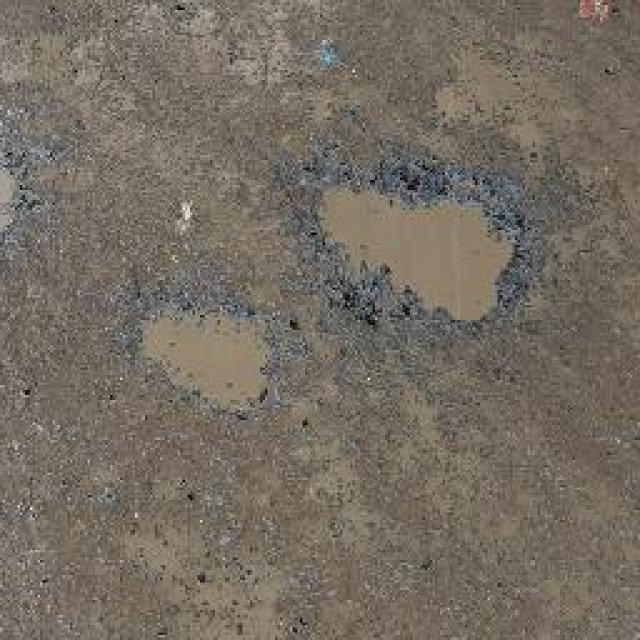stagnation: (294, 149, 528, 320), (133, 301, 284, 417)
